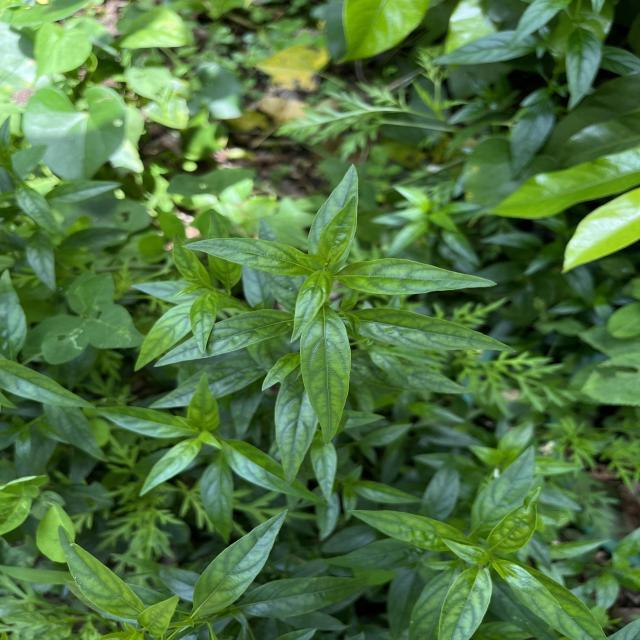Andrographis paniculata: (186, 506, 291, 620), (494, 554, 610, 640), (56, 523, 147, 620), (153, 307, 293, 369), (349, 306, 518, 354), (298, 306, 353, 446), (218, 437, 328, 505), (336, 257, 500, 296), (242, 574, 372, 620), (344, 508, 468, 552), (181, 236, 311, 277), (275, 370, 319, 490), (437, 563, 492, 640), (138, 438, 202, 498), (92, 404, 191, 438), (288, 268, 332, 344), (316, 194, 358, 271), (186, 370, 222, 434), (188, 290, 222, 354)
